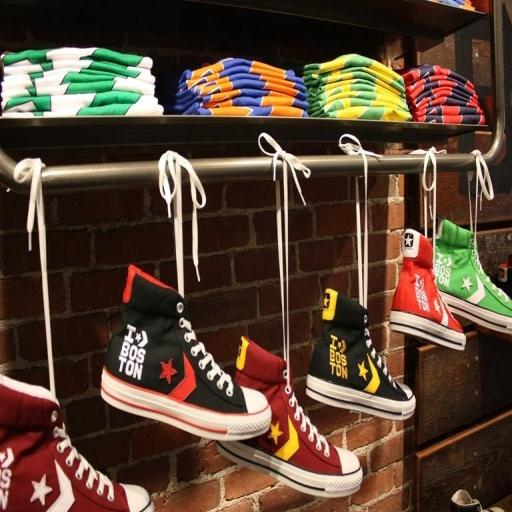shoe: (100, 265, 270, 440), (216, 336, 362, 498), (0, 375, 154, 512), (306, 288, 415, 420), (389, 229, 466, 351), (433, 218, 512, 333), (451, 489, 504, 512), (491, 254, 512, 297)
